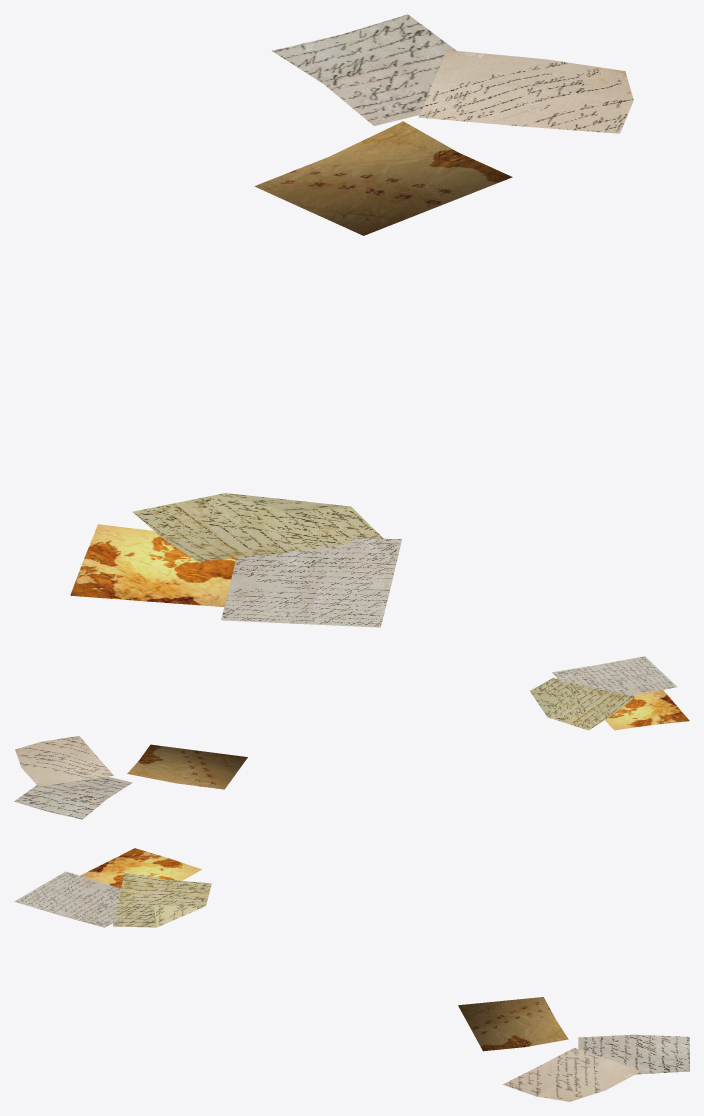
The model's file is papers_notes.glb.
The picture shows the model from 3 angles, top to bottom: view 1: azimuth 30°, elevation 25°; view 2: azimuth 150°, elevation 25°; view 3: azimuth 270°, elevation 25°; orthographic projection. The views are drawn at different scales.
Visible parts, largest first — view 1: papers; view 2: papers; view 3: papers.
Part boxes in pixels (x1=…): papers: x1=70, y1=14, x2=633, y2=627; papers: x1=14, y1=656, x2=689, y2=819; papers: x1=14, y1=848, x2=689, y2=1101.
Size of the model in its own units: 2.03 by 0.0251 by 2.27.
1 material, 1 textured.
